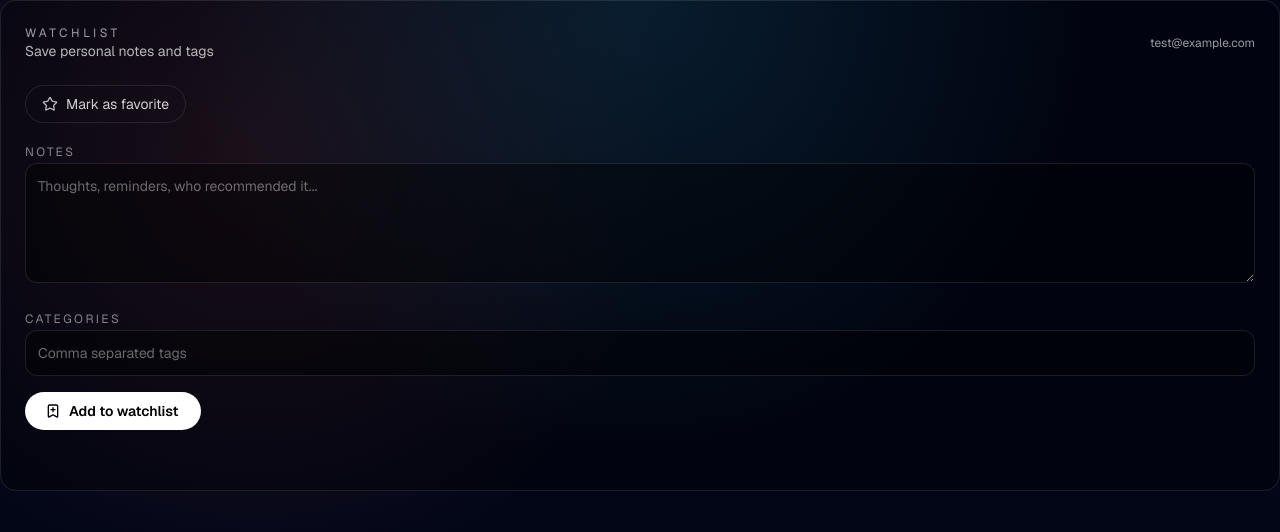
WatchlistPanel › save operation › should show success feedback after save
The width and height of the screenshot is (1280, 532).
Click the button "Add to watchlist": coordinates (113, 411) [25,392,201,430]
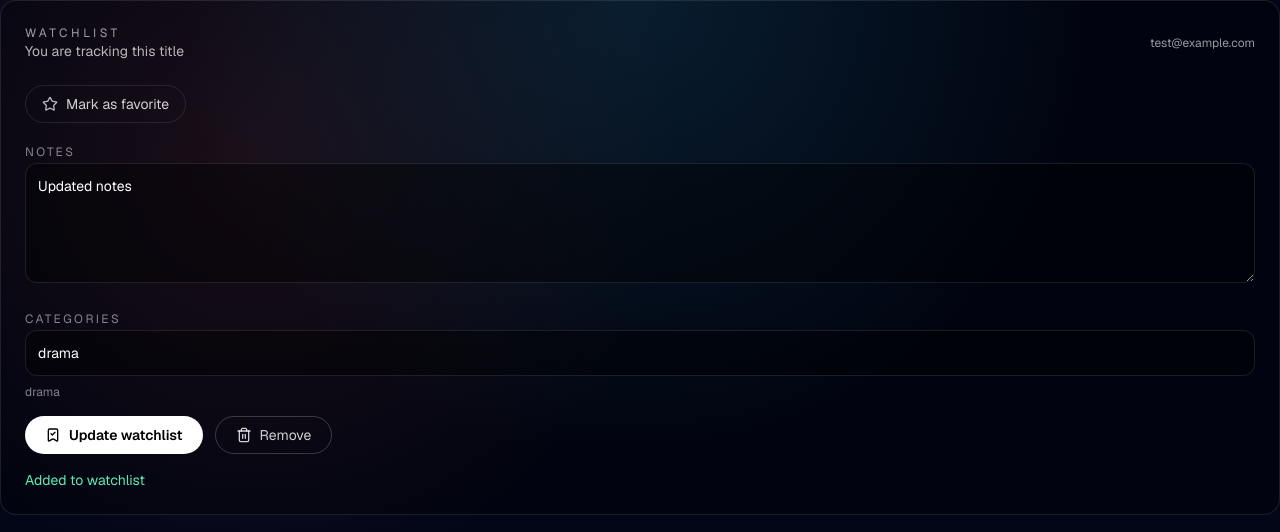
Check: the text "Added to watchlist" is shown, box [25,471,145,489]
